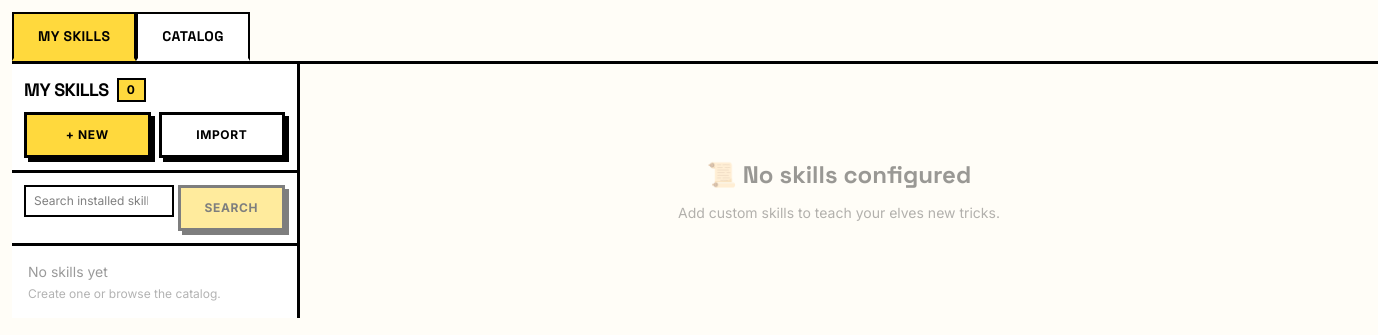
SkillManager › switches to Catalog tab when clicked
Click the button "Catalog": (193, 36) [136, 12, 250, 61]
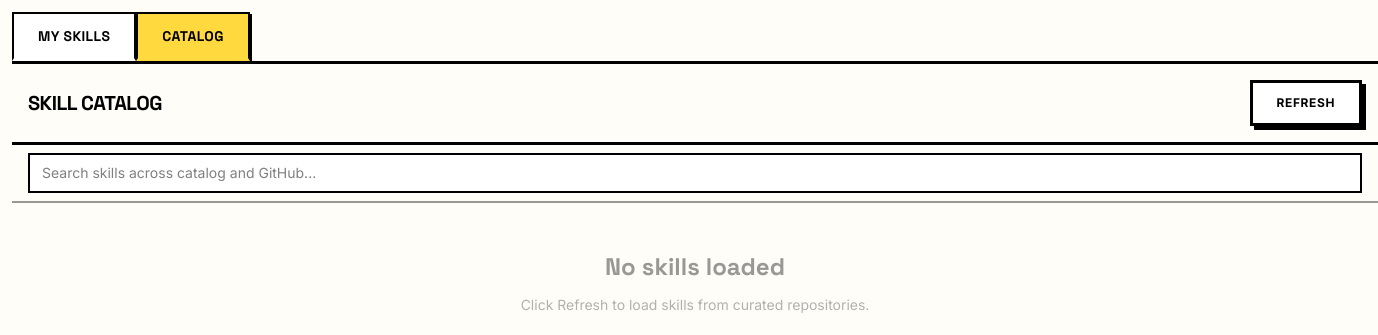
Now the heading "Skill Catalog" is shown, box [28, 89, 162, 117]
